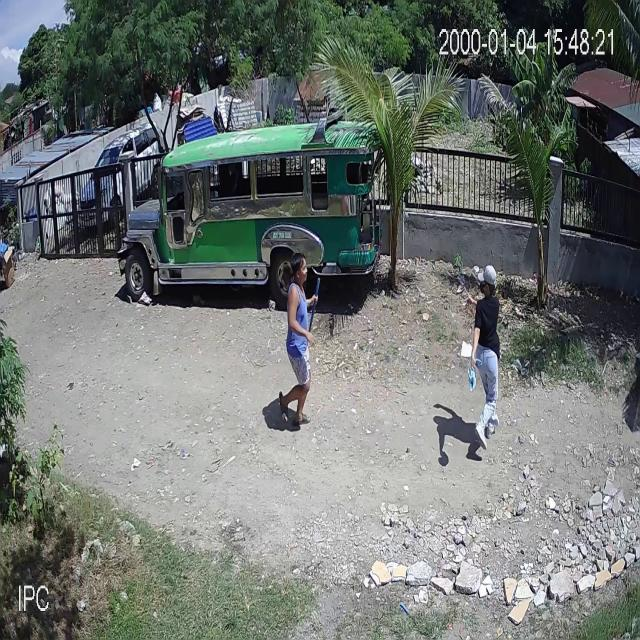running: (278, 253, 320, 425), (468, 265, 501, 450)
